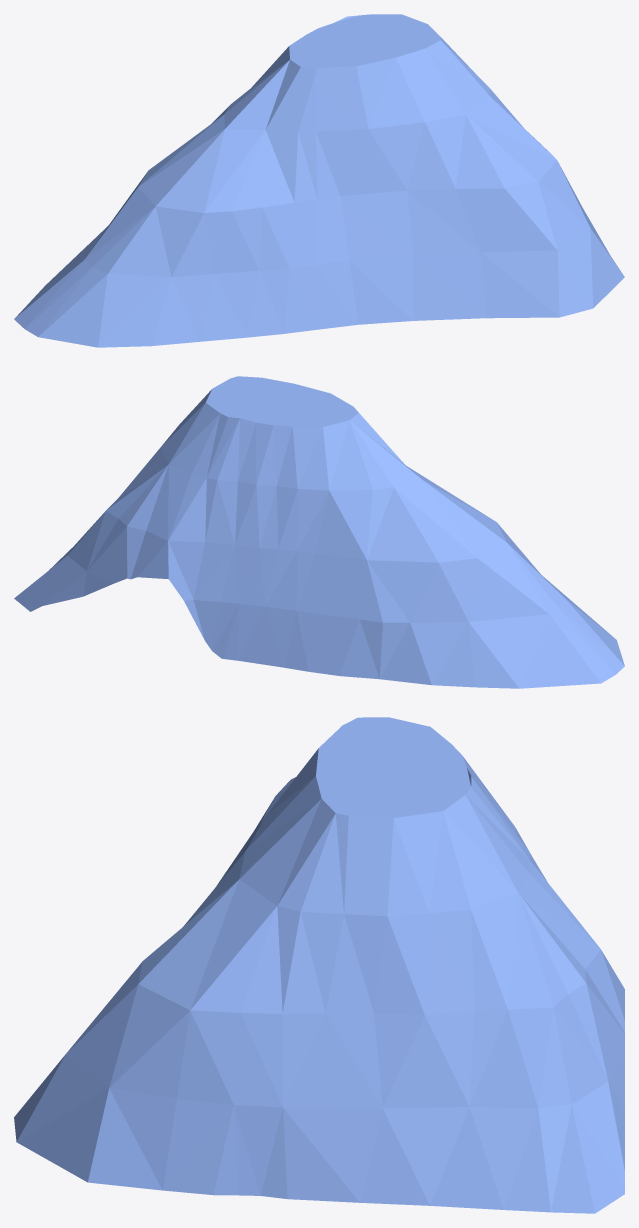
3 views of the same model, one above another, from view 1: azimuth 30°, elevation 25°; view 2: azimuth 150°, elevation 25°; view 3: azimuth 270°, elevation 25° (orthographic). The views are drawn at different scales.
Visible parts, largest first — view 1: 对象021; view 2: 对象021; view 3: 对象021.
Boxes of the visible parts, x1,y1,x2,y2 form: 对象021: (14, 14, 624, 347); 对象021: (14, 376, 624, 688); 对象021: (14, 717, 624, 1213).
Size of the model in its own units: 22.67 by 8.01 by 14.81.
1 material, 1 textured.
